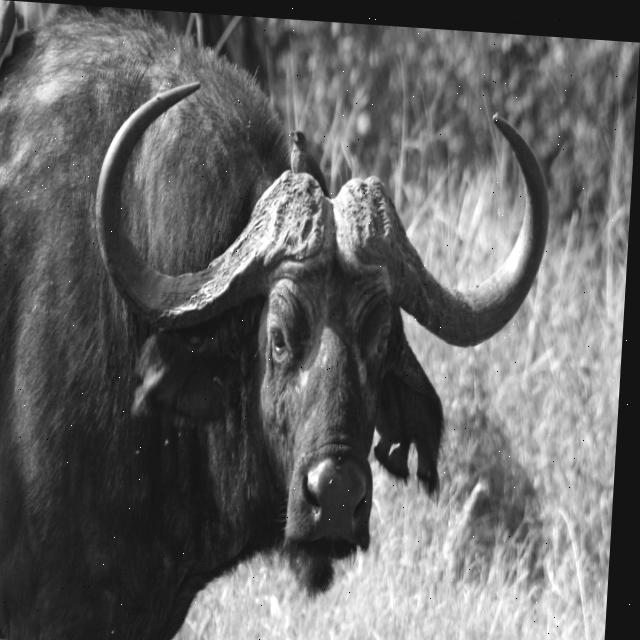Buffalo: (0, 15, 560, 640)
